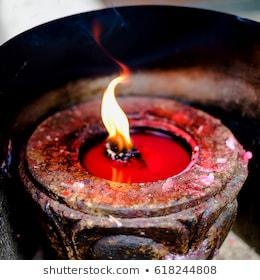fire: (99, 62, 133, 152)
